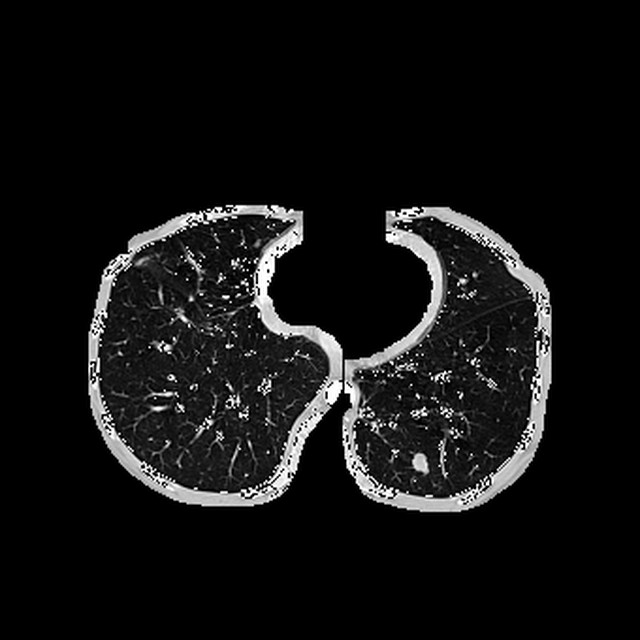PN: (410, 454, 429, 472)
